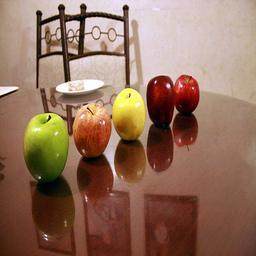apple: (21, 112, 68, 182), (71, 103, 111, 158), (111, 88, 145, 141), (145, 75, 174, 129), (174, 74, 200, 113)
